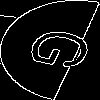G: (25, 25, 100, 76)
